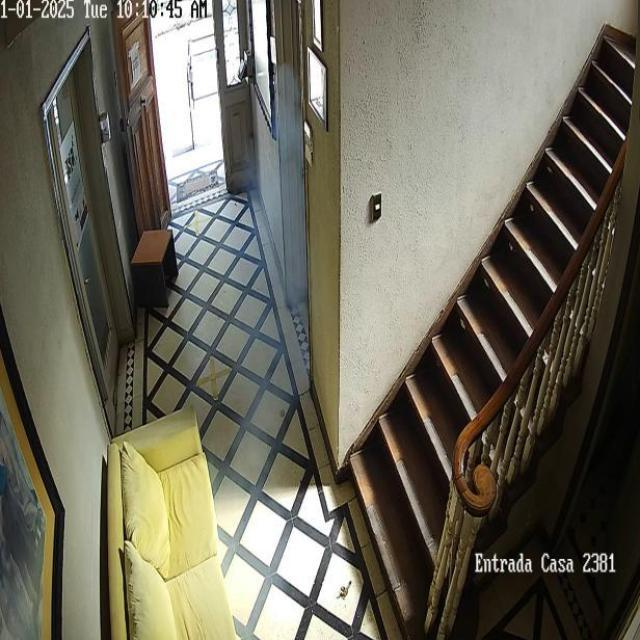fire: (182, 58, 310, 640)
